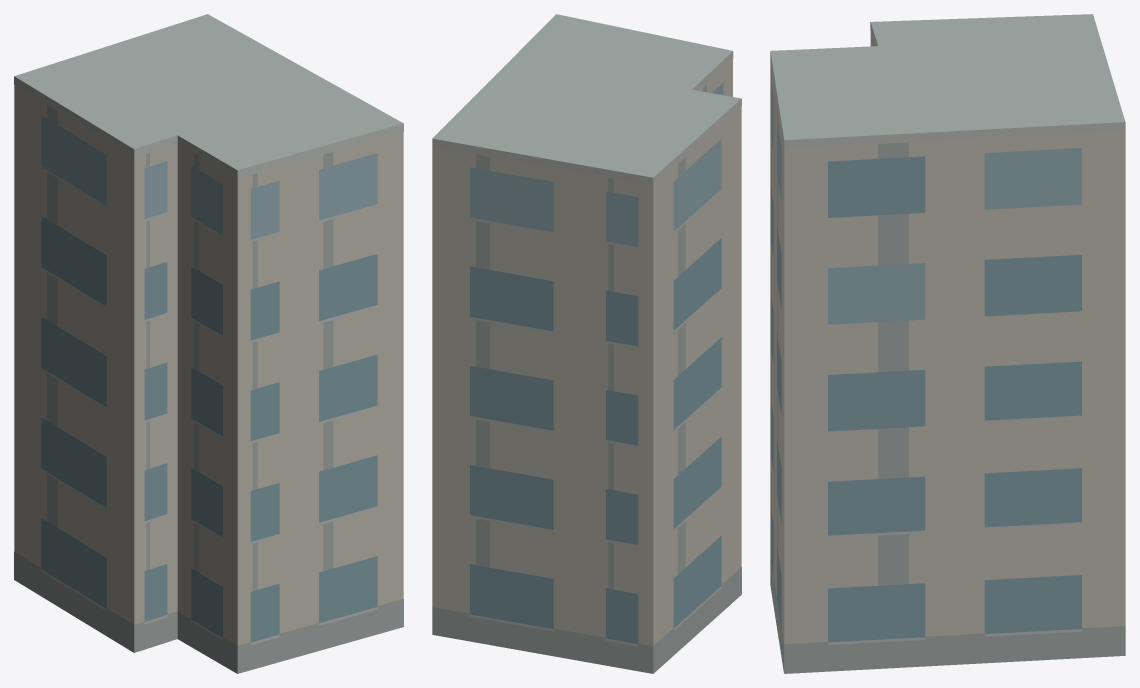
Rendered from survey-upis-32803633.glb.
3 renders of one model, left to right at view 1: azimuth 30°, elevation 25°; view 2: azimuth 150°, elevation 25°; view 3: azimuth 270°, elevation 25°, orthographic. The views are drawn at different scales.
Visible parts, largest first — view 1: survey-upis-32803633.tmp; view 2: survey-upis-32803633.tmp; view 3: survey-upis-32803633.tmp.
Part boxes in pixels (x1=…): survey-upis-32803633.tmp: x1=14, y1=14, x2=403, y2=673; survey-upis-32803633.tmp: x1=432, y1=14, x2=741, y2=673; survey-upis-32803633.tmp: x1=770, y1=14, x2=1125, y2=673.
Bounding box in the file's own units: 7.45 × 14.67 × 8.86.
